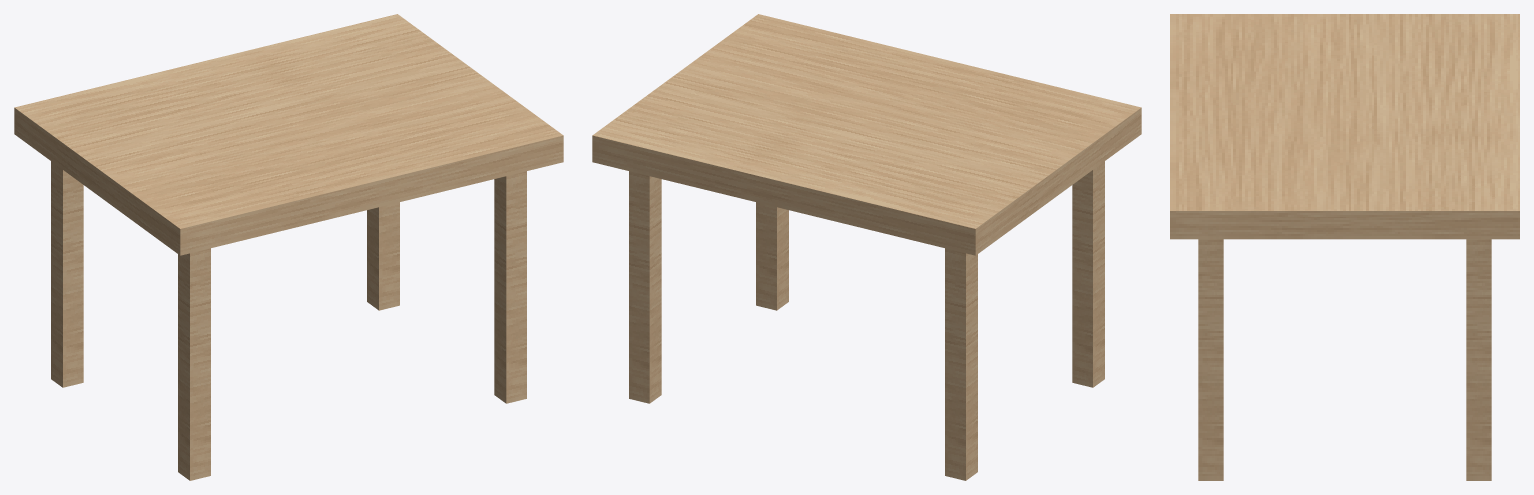
Rendered from city_table.glb.
3 views of the same model, side by side, from view 1: azimuth 30°, elevation 25°; view 2: azimuth 150°, elevation 25°; view 3: azimuth 270°, elevation 25° (orthographic). The views are drawn at different scales.
Visible parts, largest first — view 1: root; view 2: root; view 3: root.
Part boxes in pixels (x1,y1,x2,y2): root: [14, 14, 563, 480]; root: [592, 14, 1141, 480]; root: [1170, 14, 1519, 480].
Size of the model in its own units: 1.2 by 0.8 by 0.9.
1 material, 1 textured.
